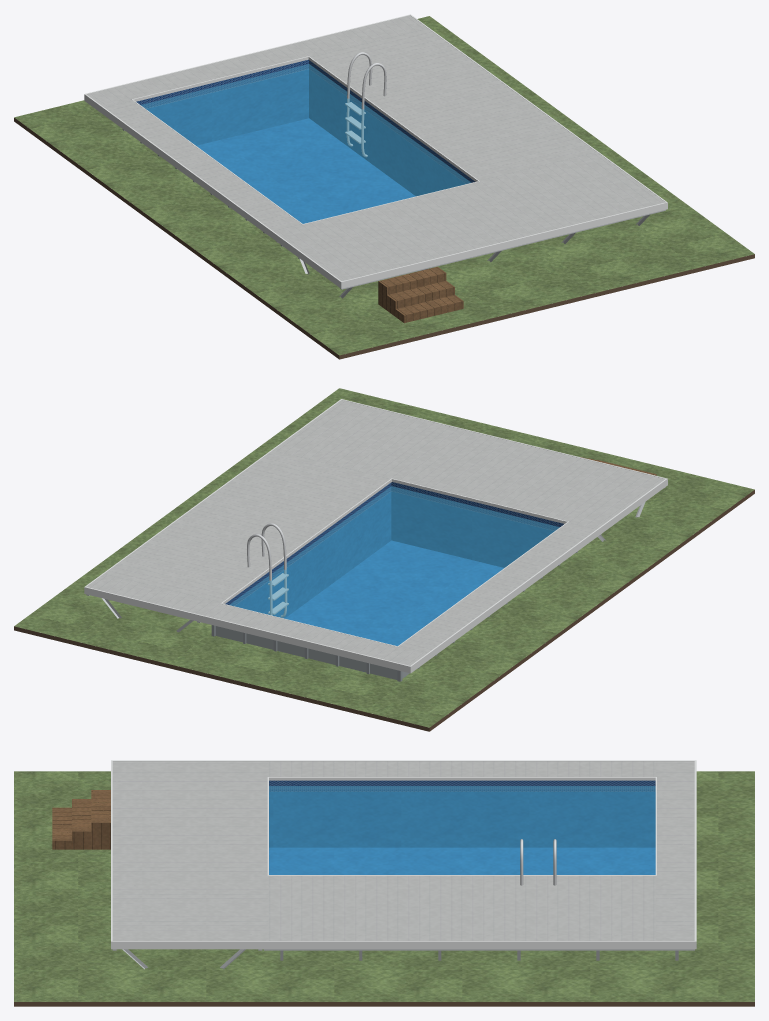
File: kayak-pool-12x20-gray-endside-rec-nofence.d3fb740b9d.glb
3 renders of one model, top to bottom at view 1: azimuth 30°, elevation 25°; view 2: azimuth 150°, elevation 25°; view 3: azimuth 270°, elevation 25°, orthographic. The views are drawn at different scales.
Visible parts, largest first — view 1: deck, ground, water, liner_wall, liner_floor, fascia, soil, steps, steel, stud; view 2: deck, ground, water, liner_wall, liner_floor, fascia, soil, wall, steel; view 3: deck, ground, water, liner_wall, liner_floor, fascia, soil, steps, stud.
Part boxes in pixels (bbox=[...]): deck: bbox=[87, 15, 665, 281]; ground: bbox=[14, 16, 754, 355]; water: bbox=[141, 64, 471, 223]; liner_wall: bbox=[136, 59, 475, 196]; liner_floor: bbox=[196, 118, 415, 223]; fascia: bbox=[84, 14, 667, 288]; soil: bbox=[14, 117, 754, 359]; steps: bbox=[378, 266, 463, 323]; steel: bbox=[345, 52, 386, 157]; stud: bbox=[276, 209, 665, 298]; deck: bbox=[87, 400, 664, 665]; ground: bbox=[14, 388, 754, 727]; water: bbox=[229, 486, 559, 645]; liner_wall: bbox=[225, 482, 563, 618]; liner_floor: bbox=[285, 540, 503, 645]; fascia: bbox=[84, 399, 667, 673]; soil: bbox=[14, 490, 754, 731]; wall: bbox=[215, 626, 409, 679]; steel: bbox=[247, 523, 288, 617]; deck: bbox=[112, 761, 694, 940]; ground: bbox=[14, 771, 754, 1001]; water: bbox=[269, 786, 655, 874]; liner_wall: bbox=[269, 780, 655, 847]; liner_floor: bbox=[269, 847, 655, 874]; fascia: bbox=[111, 760, 696, 949]; soil: bbox=[14, 1002, 754, 1006]; steps: bbox=[52, 790, 110, 849]; stud: bbox=[112, 949, 694, 969].
Size of the model in its own units: 8.53 by 1.9 by 11.57.
Materials: 12 (5 with a texture image).
